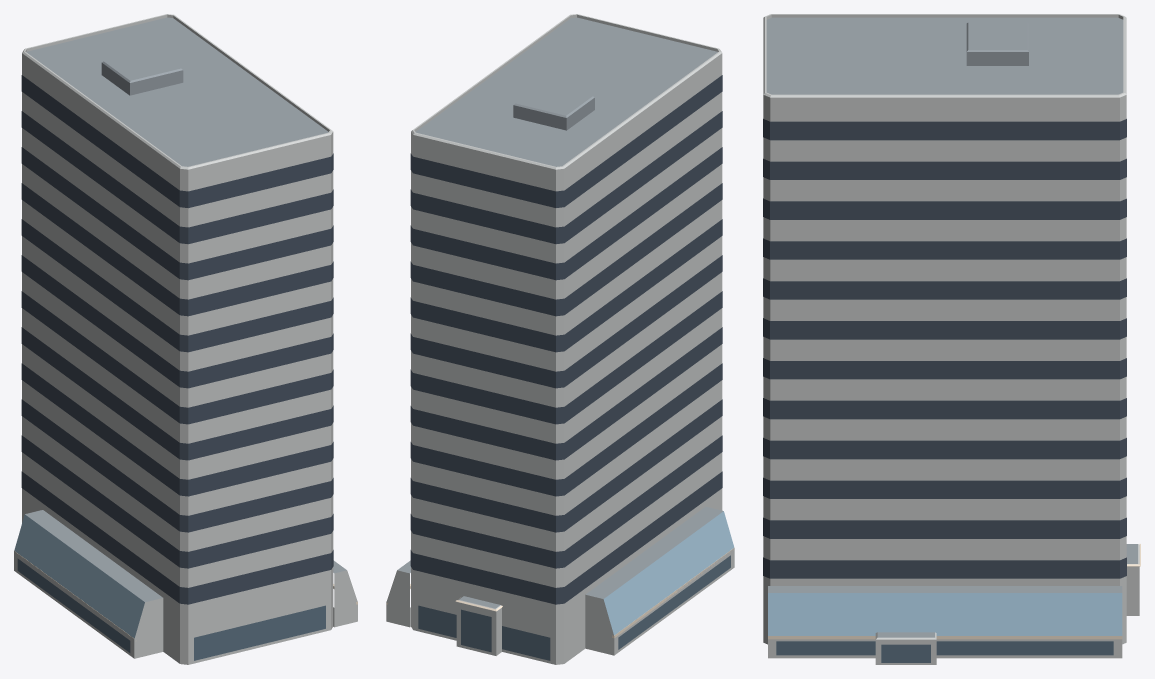
Rendered from cola-capitol-center.glb.
The picture shows the model from 3 angles, left to right: view 1: azimuth 30°, elevation 25°; view 2: azimuth 150°, elevation 25°; view 3: azimuth 270°, elevation 25°; orthographic projection. The views are drawn at different scales.
Parts seen in each view (by area): view 1: Capitol Center; view 2: Capitol Center; view 3: Capitol Center.
Boxes of the visible parts, <box> form: Capitol Center: <box>14,14,357,664</box>; Capitol Center: <box>386,14,734,664</box>; Capitol Center: <box>763,14,1140,664</box>.
Size of the model in its own units: 49.22 by 109 by 66.56.
